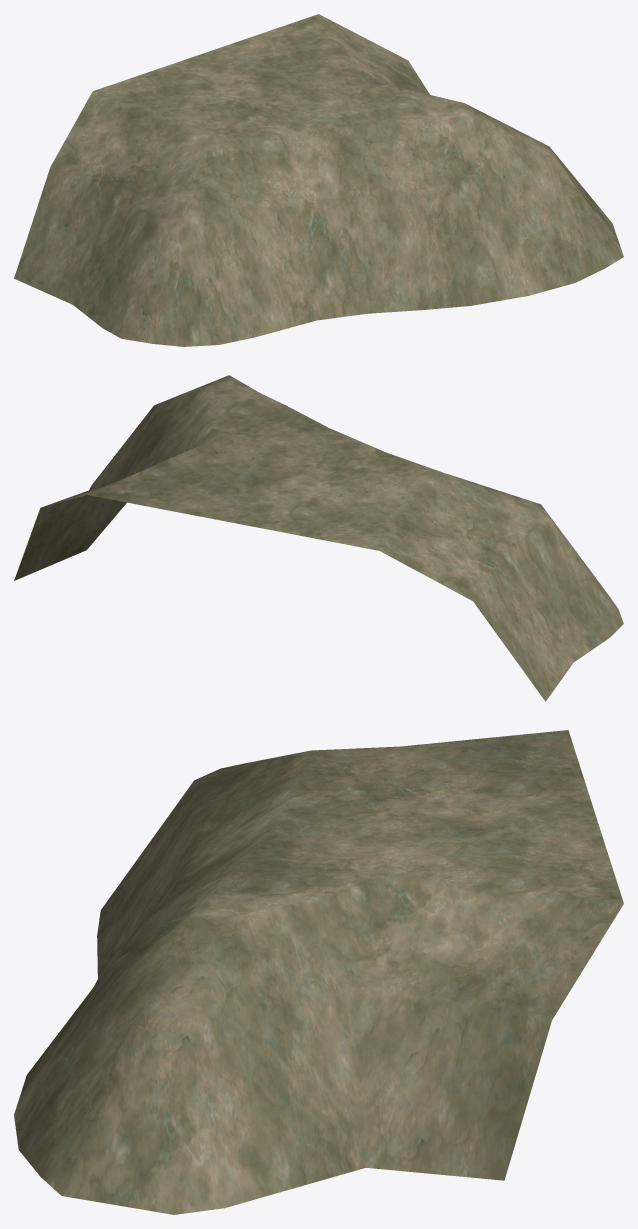
The model's file is OVERHILL_A_01_OBJECT163.fbx.
3 views of the same model, one above another, from view 1: azimuth 30°, elevation 25°; view 2: azimuth 150°, elevation 25°; view 3: azimuth 270°, elevation 25° (orthographic). The views are drawn at different scales.
Parts seen in each view (by area): view 1: OVERHILL_A_01_OBJECT163; view 2: OVERHILL_A_01_OBJECT163; view 3: OVERHILL_A_01_OBJECT163.
Part boxes in pixels (x1,y1,x2,y2): OVERHILL_A_01_OBJECT163: (14,14,623,346); OVERHILL_A_01_OBJECT163: (14,375,623,701); OVERHILL_A_01_OBJECT163: (14,730,623,1214).
Bounding box in the file's own units: 261242 × 68807 × 181736.
Materials: 2 (2 with a texture image).
